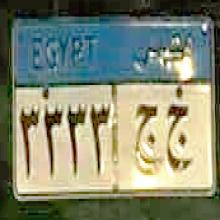3: (17, 101, 40, 181), (42, 100, 64, 183), (90, 98, 112, 178), (66, 101, 86, 178)
jeem: (132, 100, 163, 178), (165, 102, 195, 180)
